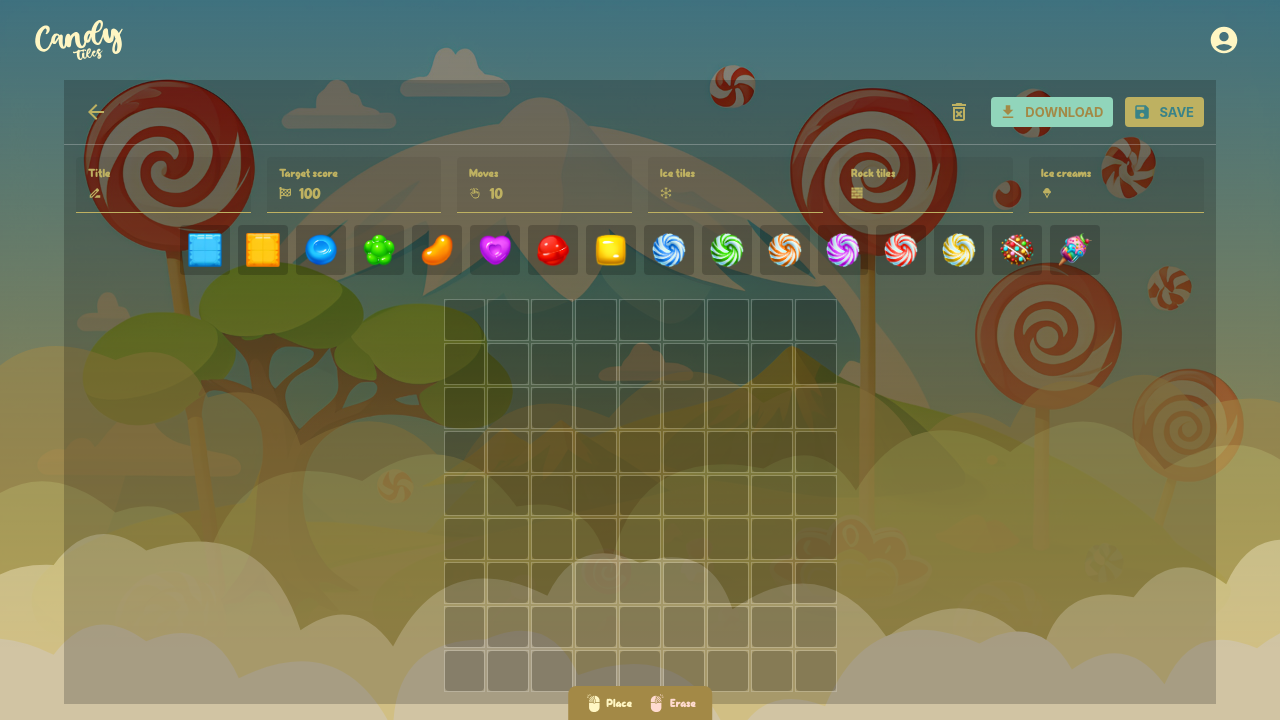
Level editor page › clicking the clear button in clear editor dialog should clear grid editor
Click the element with test id "editor-element-button-Ice-tile" at x=205, y=250, box [180, 225, 230, 275]
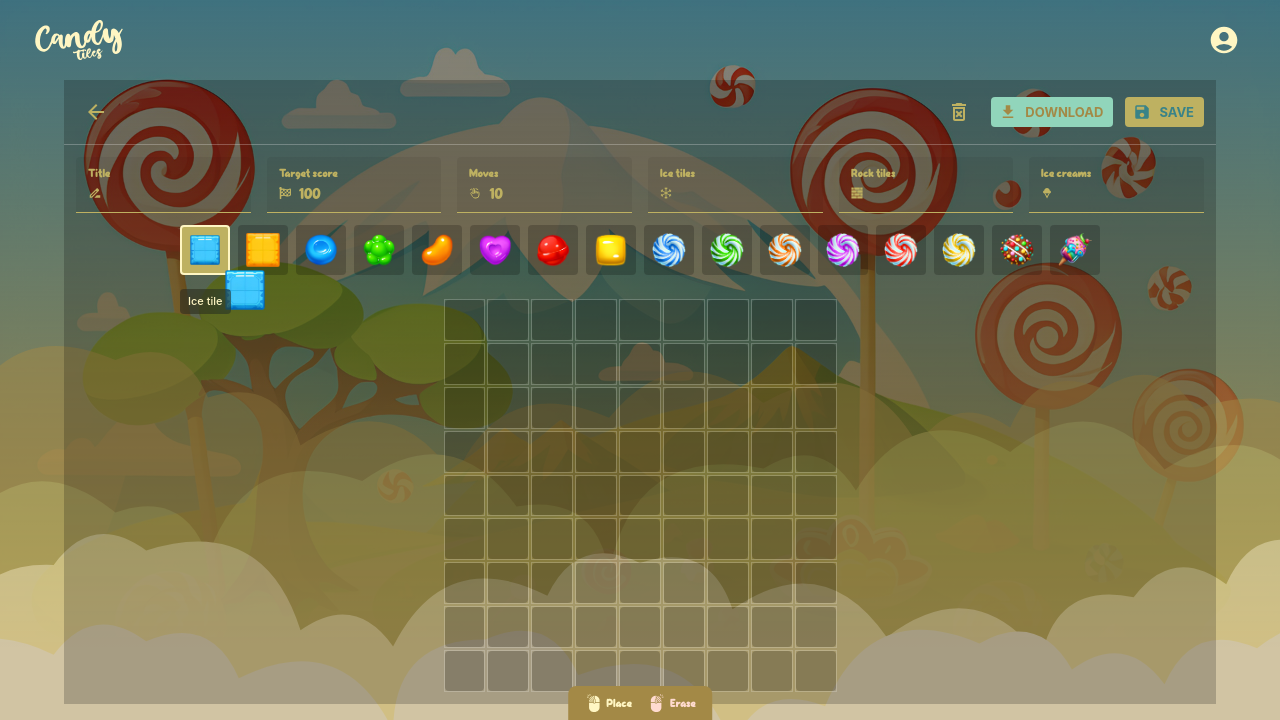
Click the 1st element with test id "grid-editor-tile-slot" at x=465, y=320, box [444, 299, 486, 341]
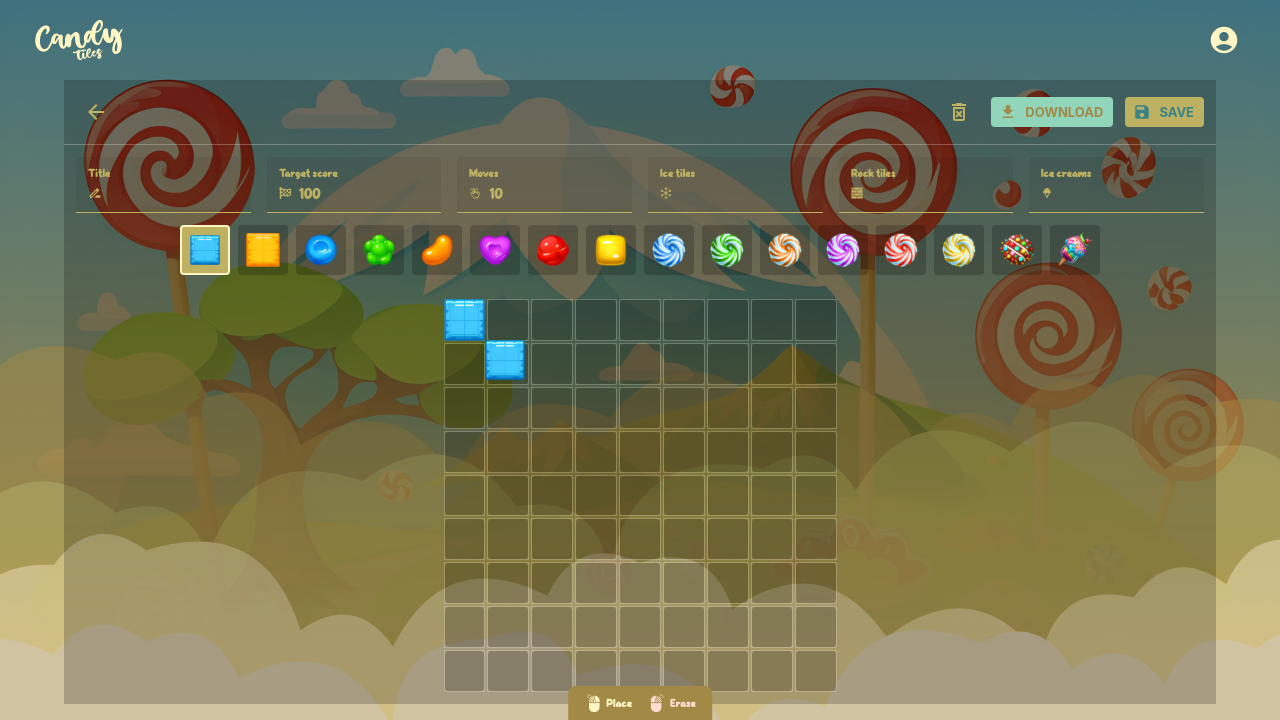
Click the button with test id "clear-editor-button" at x=959, y=112, box [939, 92, 979, 132]
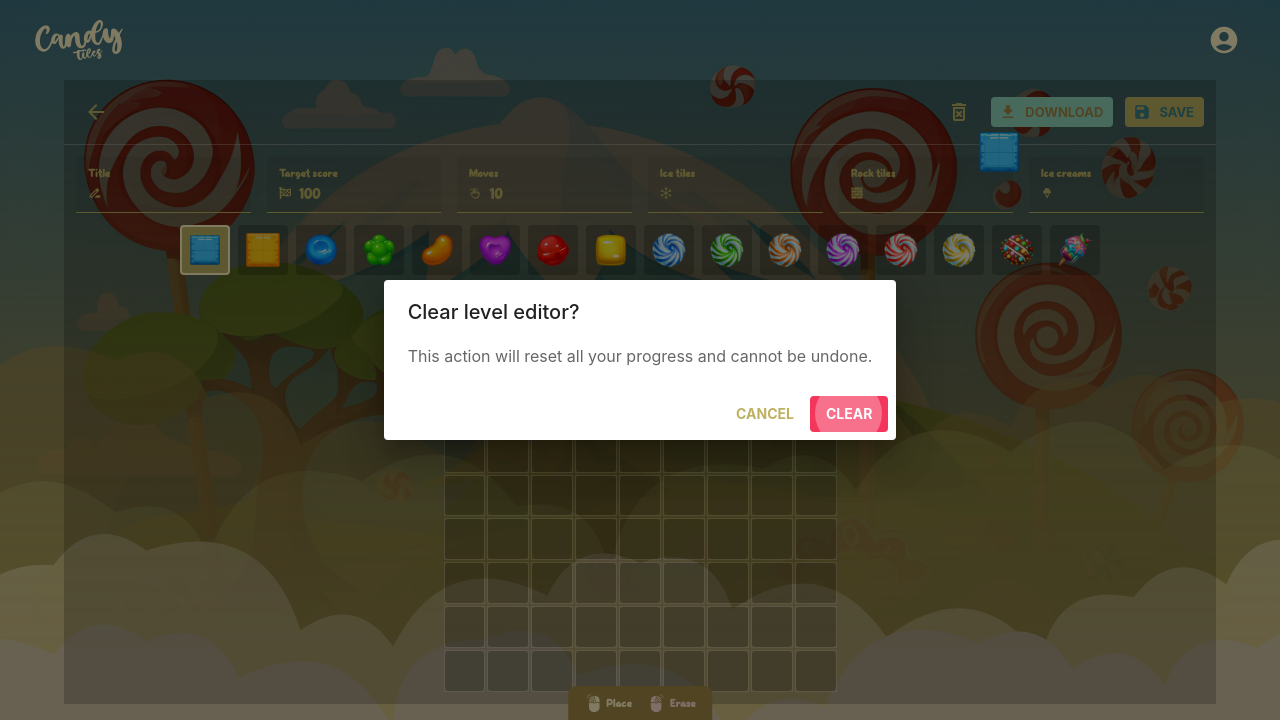
Expected: the button "Clear" is shown
Click the button "Clear" at x=849, y=415, box [810, 396, 888, 433]
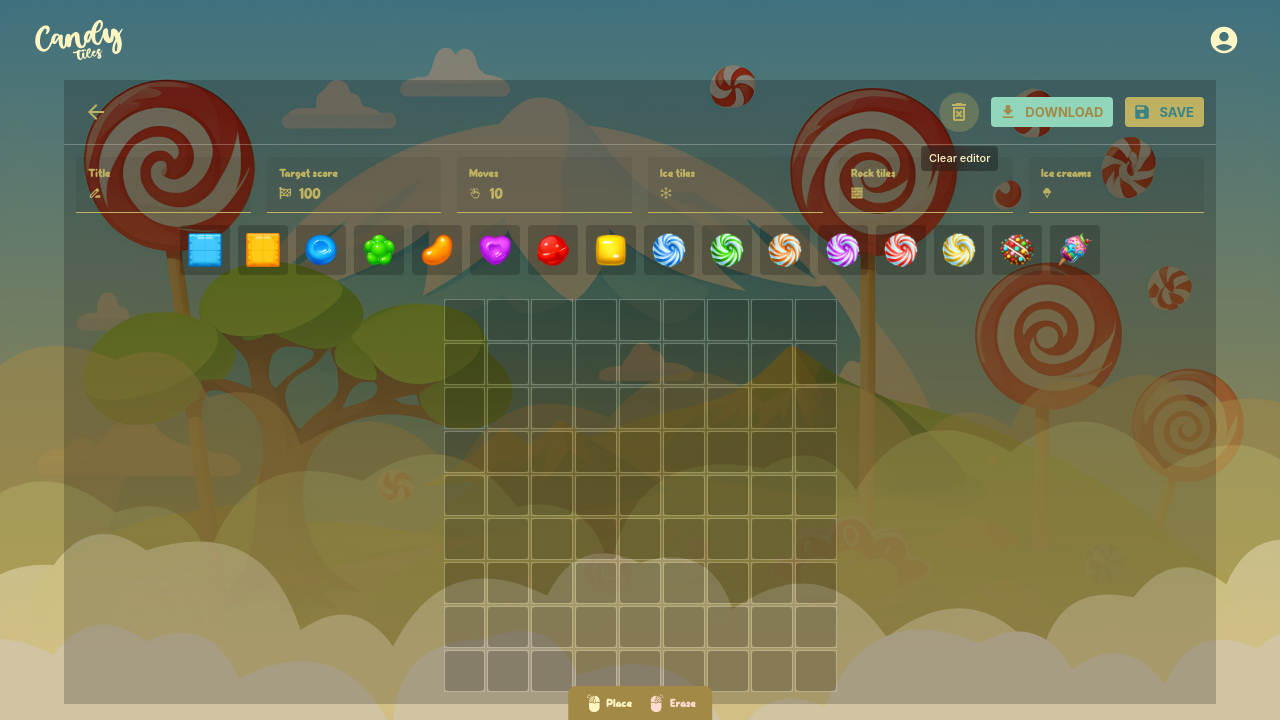
Expected: the element with test id "clear-editor-dialog" is gone
